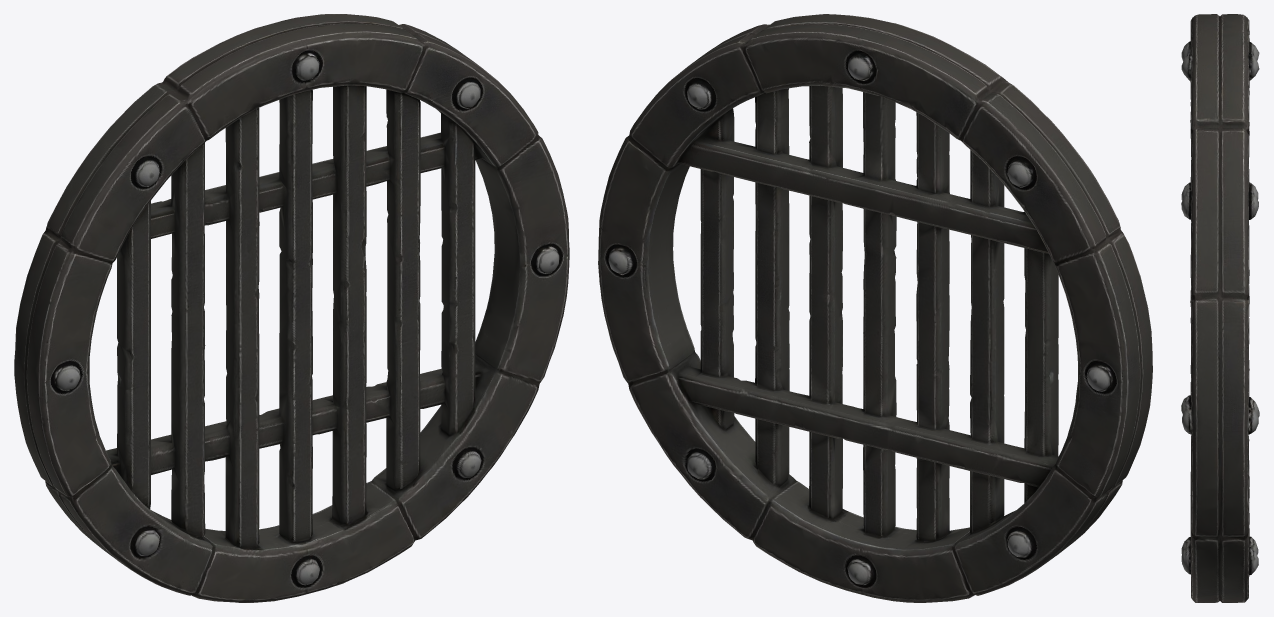
Rendered from Wall_Sewer_Grate_Round.fbx.
3 renders of one model, left to right at view 1: azimuth 30°, elevation 25°; view 2: azimuth 150°, elevation 25°; view 3: azimuth 270°, elevation 25°, orthographic. The views are drawn at different scales.
Parts seen in each view (by area): view 1: Sewer_Grate_Round; view 2: Sewer_Grate_Round; view 3: Sewer_Grate_Round.
Boxes of the visible parts, x1,y1,x2,y2 form: Sewer_Grate_Round: (14, 14, 569, 602); Sewer_Grate_Round: (598, 14, 1152, 602); Sewer_Grate_Round: (1181, 14, 1259, 602).
Size of the model in its own units: 178 by 177 by 23.67.
Materials: 1 (1 with a texture image).
